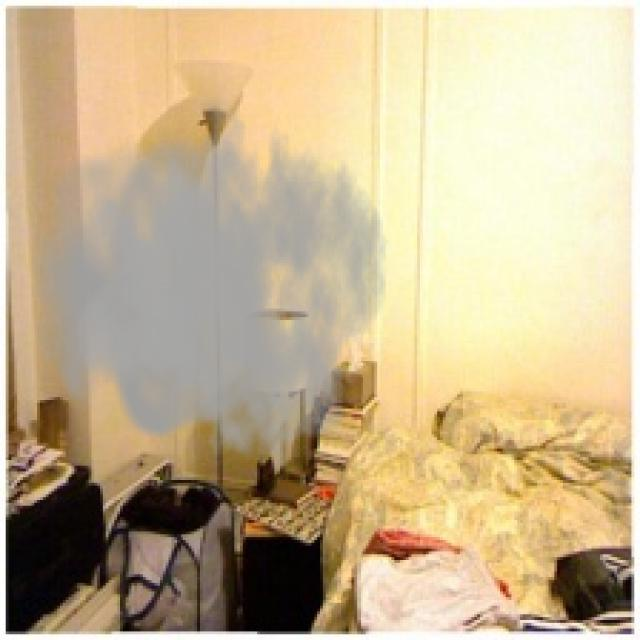Smoke: (31, 89, 388, 472)
